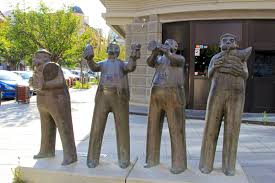person-like: (196, 32, 250, 177), (82, 40, 142, 170), (143, 37, 190, 175), (27, 46, 79, 166)
